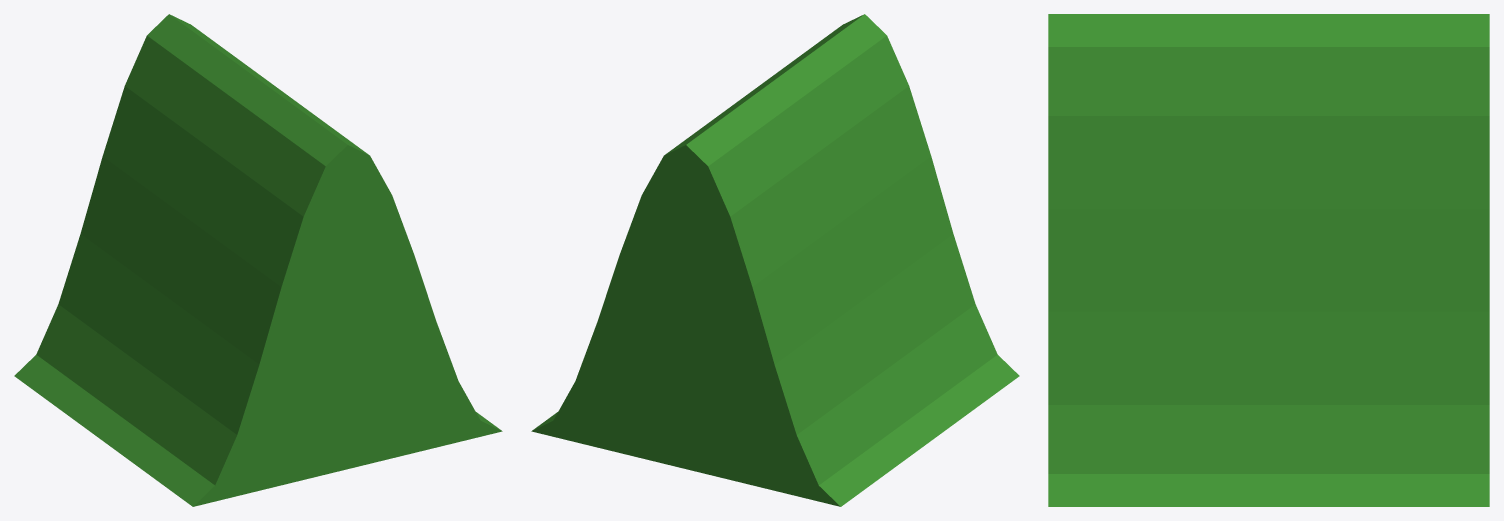
Rendered from arch_leaf.glb.
3 renders of one model, left to right at view 1: azimuth 30°, elevation 25°; view 2: azimuth 150°, elevation 25°; view 3: azimuth 270°, elevation 25°, orthographic. The views are drawn at different scales.
Parts seen in each view (by area): view 1: Body; view 2: Body; view 3: Body.
Part boxes in pixels (<box>): Body: <box>14,14,502,506</box>; Body: <box>531,14,1019,506</box>; Body: <box>1048,14,1489,506</box>.
Bounding box in the file's own units: 1 × 1 × 1.
